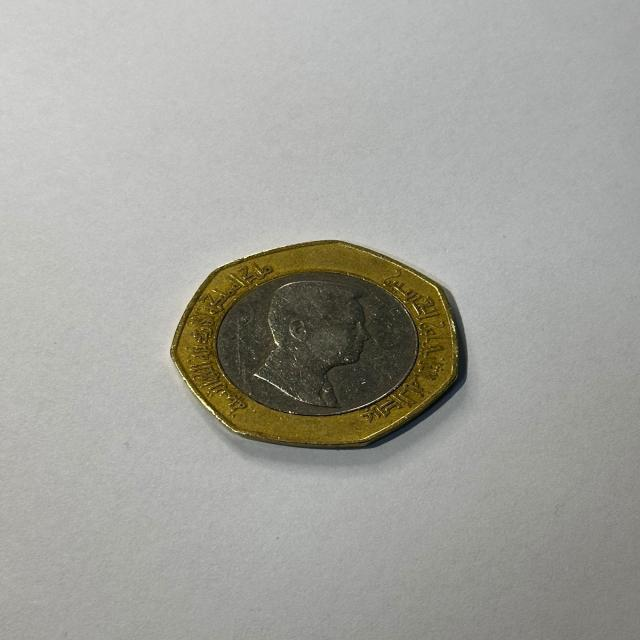50-coins: (170, 238, 459, 450)
